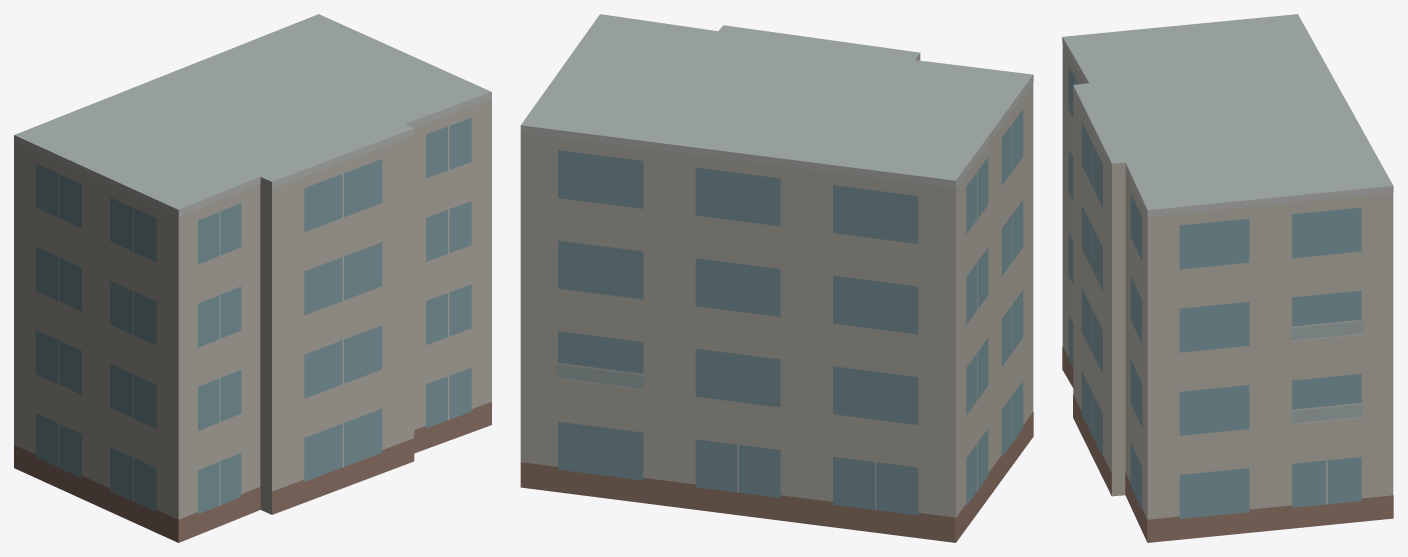
File: survey-upis-32547568.glb
3 renders of one model, left to right at view 1: azimuth 30°, elevation 25°; view 2: azimuth 150°, elevation 25°; view 3: azimuth 270°, elevation 25°, orthographic. The views are drawn at different scales.
Visible parts, largest first — view 1: survey-upis-32547568.tmp; view 2: survey-upis-32547568.tmp; view 3: survey-upis-32547568.tmp.
Boxes of the visible parts, <box> form: survey-upis-32547568.tmp: <box>14,14,491,542</box>; survey-upis-32547568.tmp: <box>520,14,1033,542</box>; survey-upis-32547568.tmp: <box>1062,14,1393,542</box>.
Bounding box in the file's own units: 14.94 × 11.8 × 10.65.
